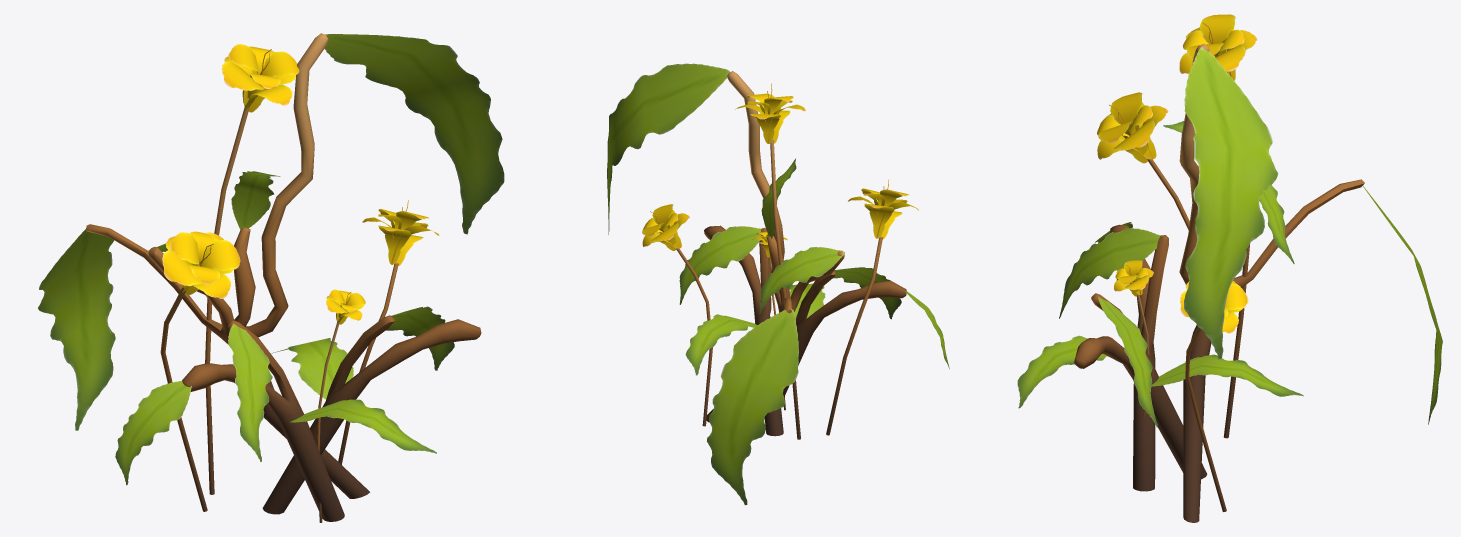
File: plant_10.fbx
3 views of the same model, side by side, from view 1: azimuth 30°, elevation 25°; view 2: azimuth 150°, elevation 25°; view 3: azimuth 270°, elevation 25° (orthographic). The views are drawn at different scales.
Parts seen in each view (by area): view 1: plant10; view 2: plant10; view 3: plant10.
Boxes of the visible parts, x1=… form: plant10: x1=38, y1=33, x2=504, y2=522; plant10: x1=607, y1=63, x2=949, y2=505; plant10: x1=1017, y1=14, x2=1442, y2=522.
Size of the model in its own units: 219 by 228 by 192.
